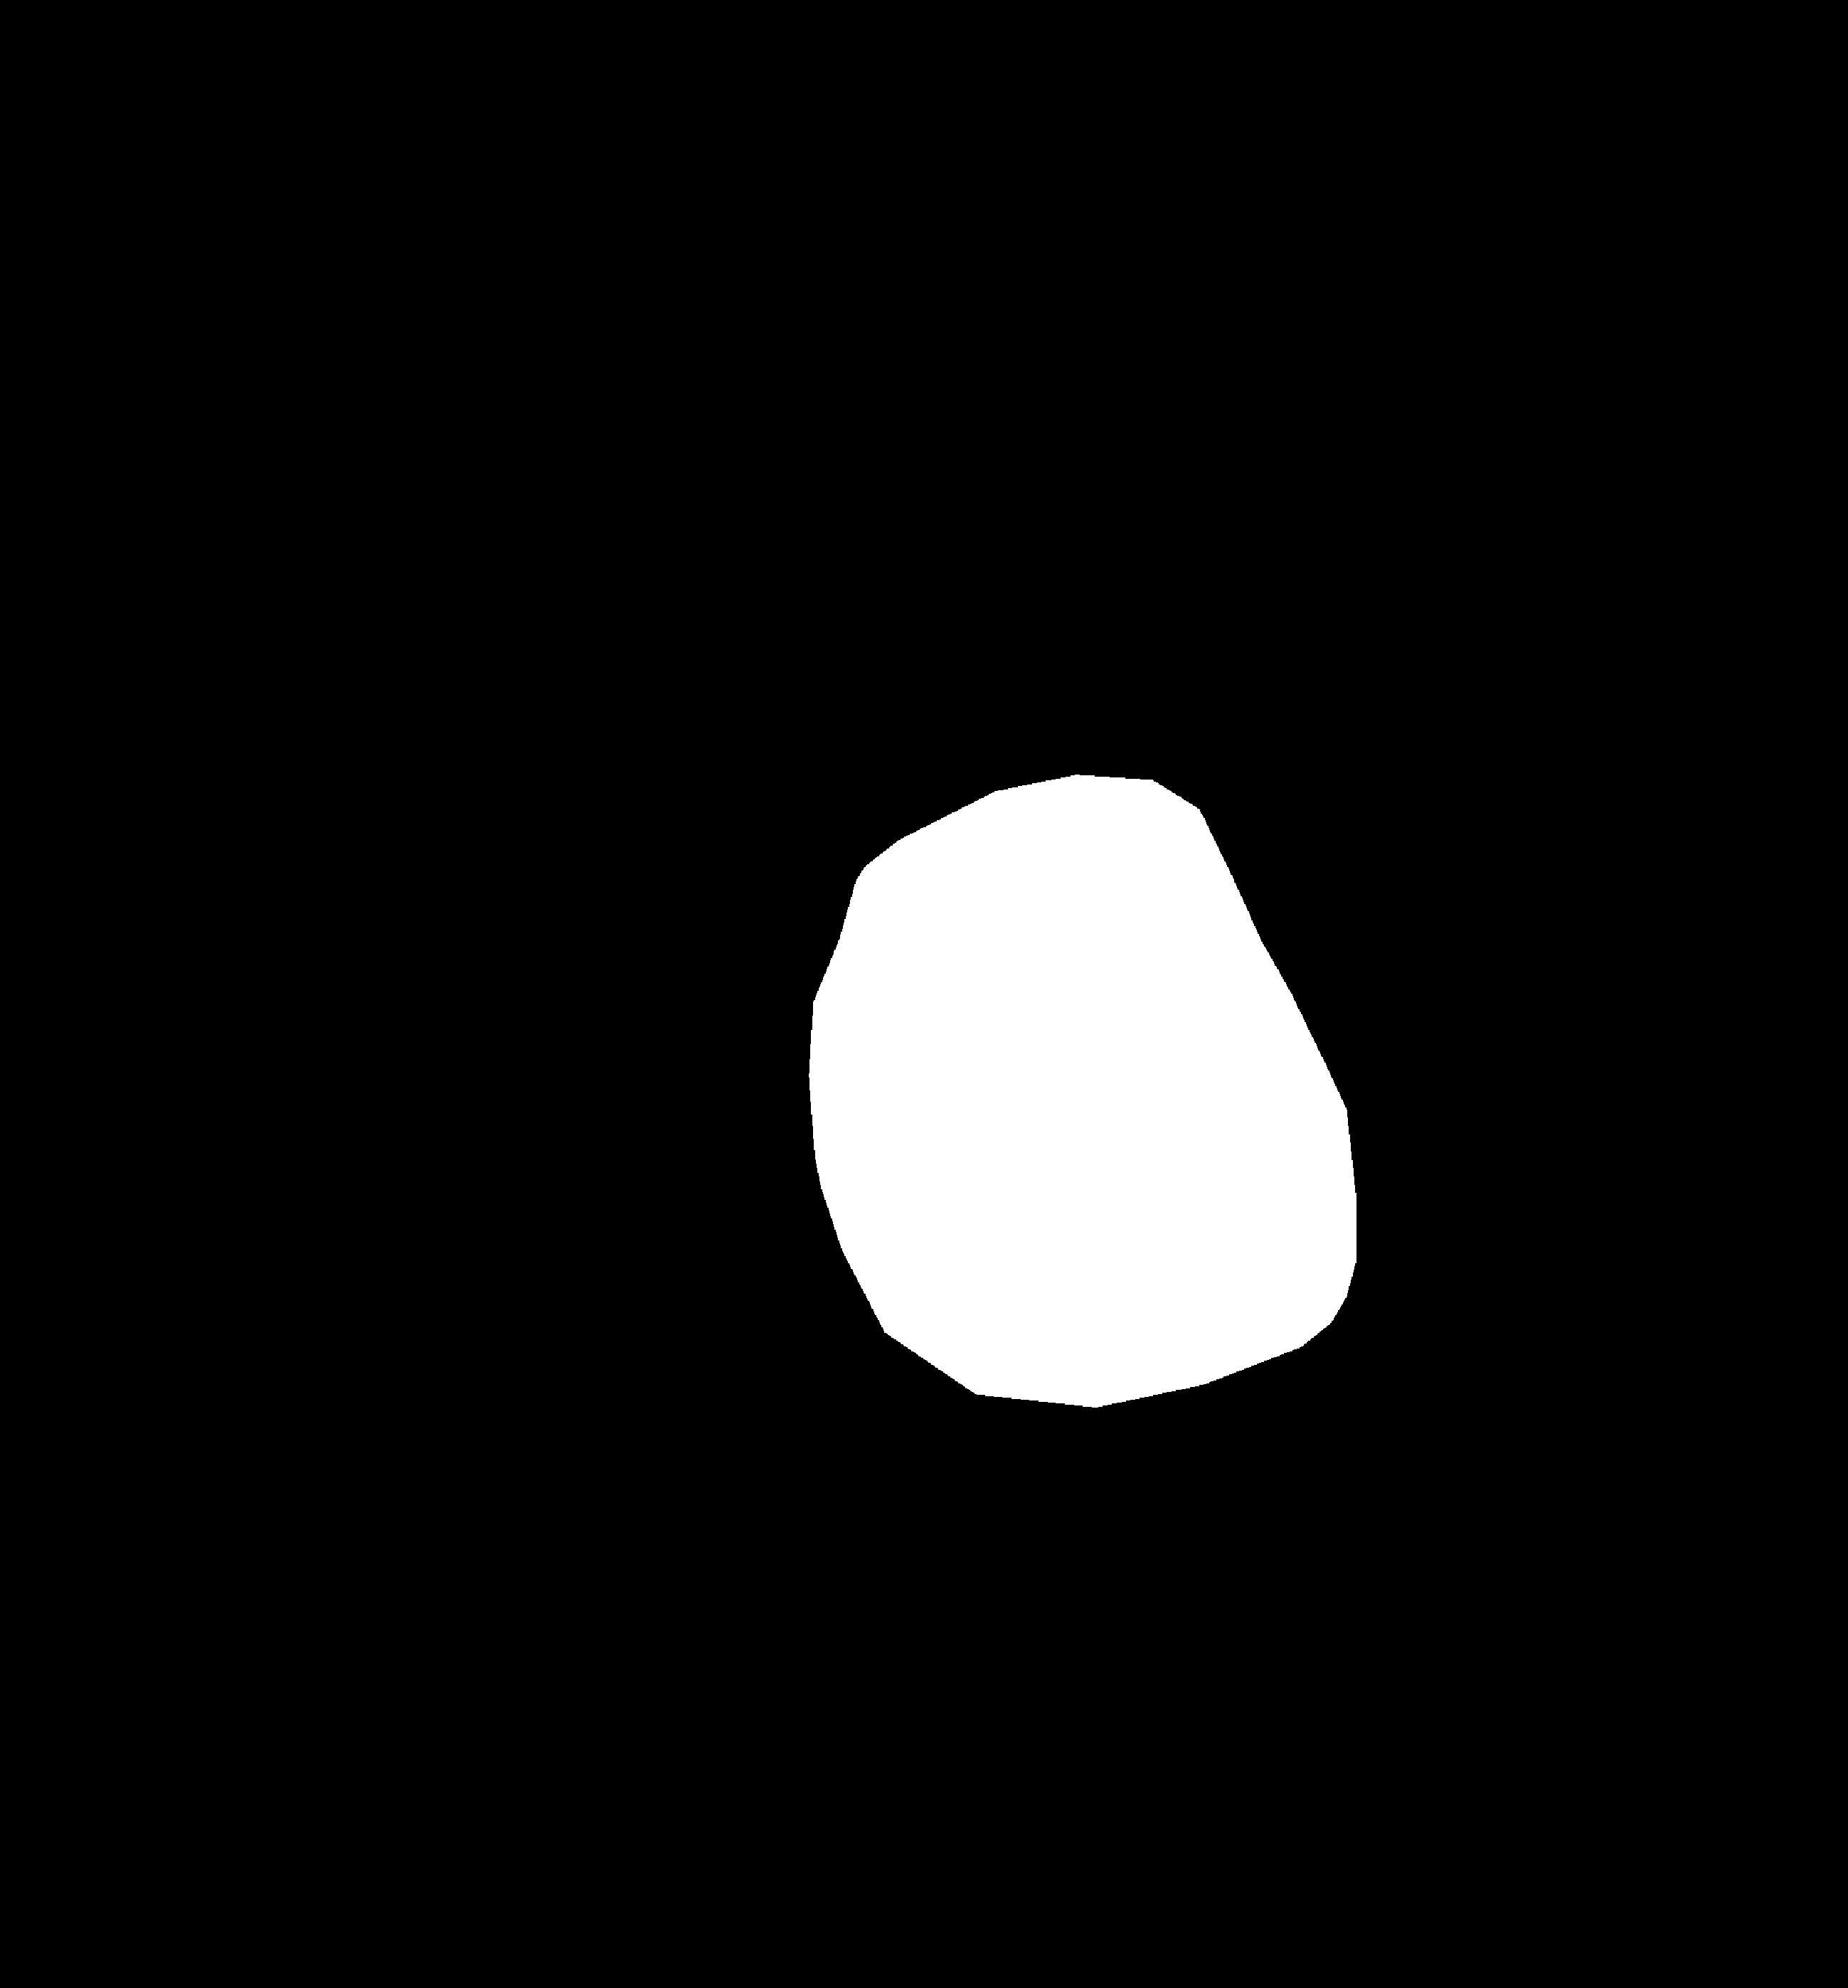heart: (806, 889, 1355, 1398)
left_lung: (254, 177, 894, 1530)
right_lung: (1035, 163, 1671, 1573)
